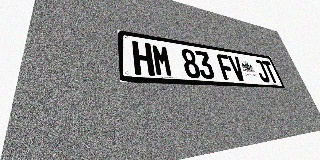3: (195, 50, 215, 79)
8: (180, 48, 201, 78)
F: (216, 53, 236, 80)
H: (132, 41, 155, 76)
J: (253, 59, 271, 82)
M: (151, 44, 173, 77)
T: (261, 60, 279, 83)
V: (227, 55, 247, 81)
